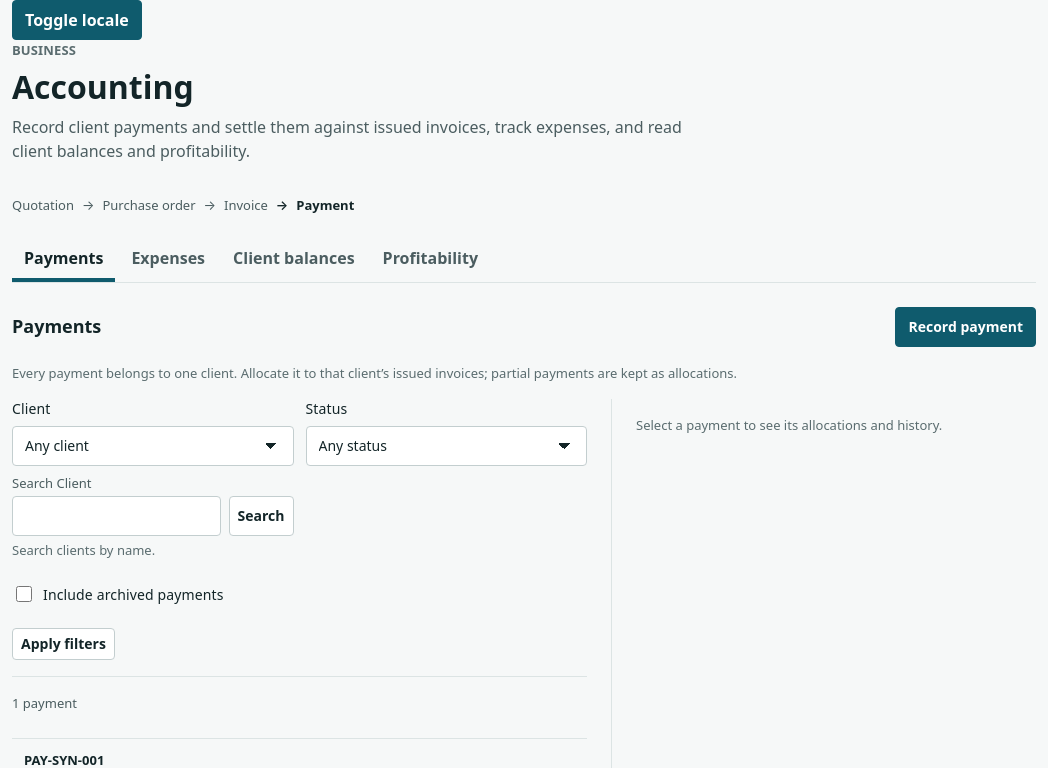
Test case: AccountingPanel: presentation and localization › renders one English heading, human labels, readable money, and no identifier
Expected: the heading "Accounting" is shown, [12,65,194,108]
Expected: the text "1 payment" is shown, [12,694,77,712]
Click the button "PAY-SYN-001" at (64, 760), box [24,750,104,767]
(page scrolled)
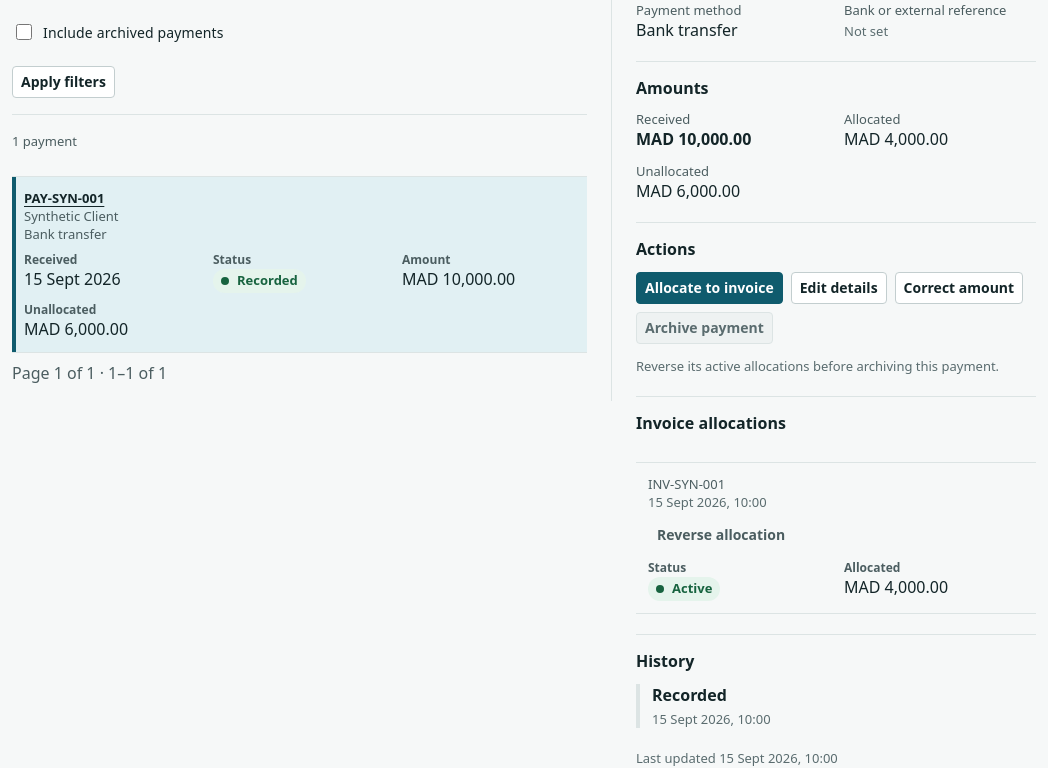
Expected: the text "Recorded" is shown, [652,684,727,706]
